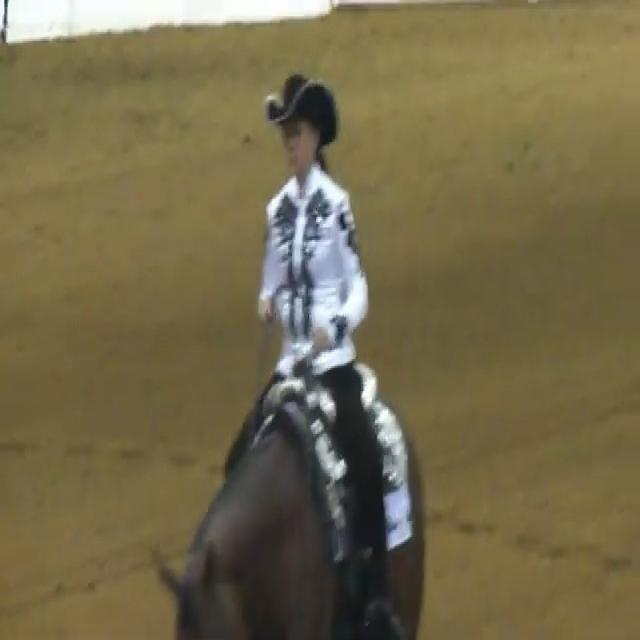horse: (123, 3, 459, 640)
